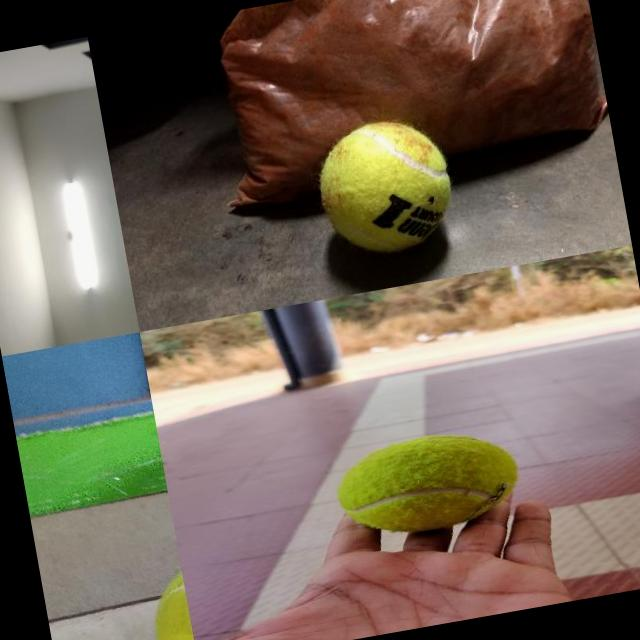tennis-ball: (327, 420, 525, 546), (308, 110, 460, 262)
